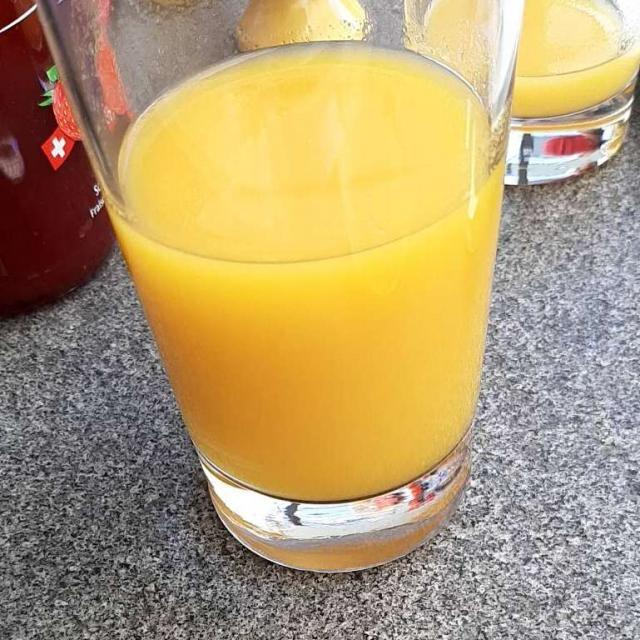juice: (125, 57, 505, 505)
